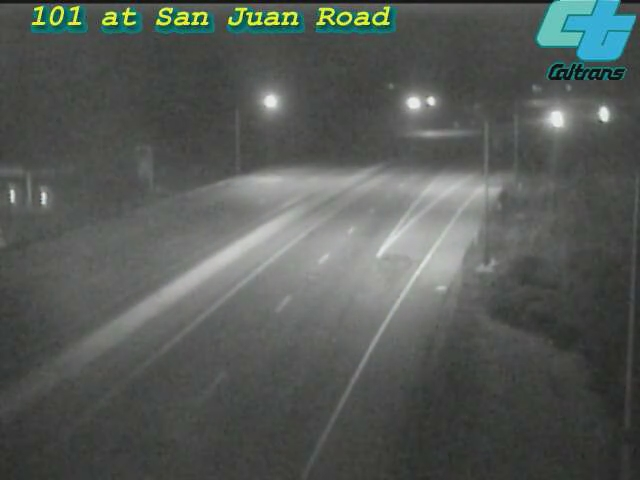vehicle: (530, 94, 580, 144), (576, 90, 626, 140)
